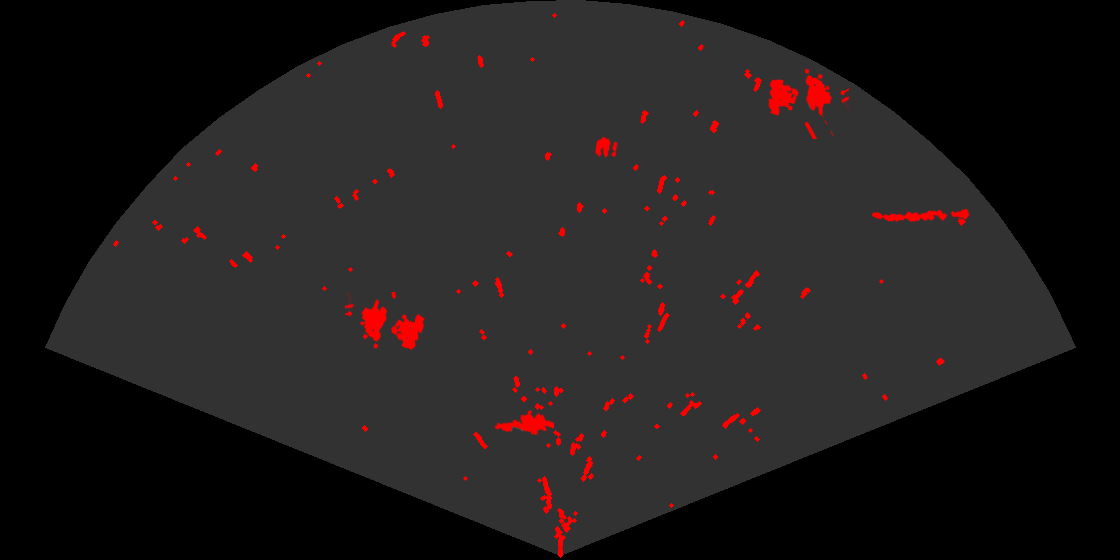ball: (594, 135, 619, 159)
cage: (767, 67, 849, 139), (345, 292, 426, 351)
chain: (870, 207, 972, 223)
frogman: (492, 408, 554, 437)
